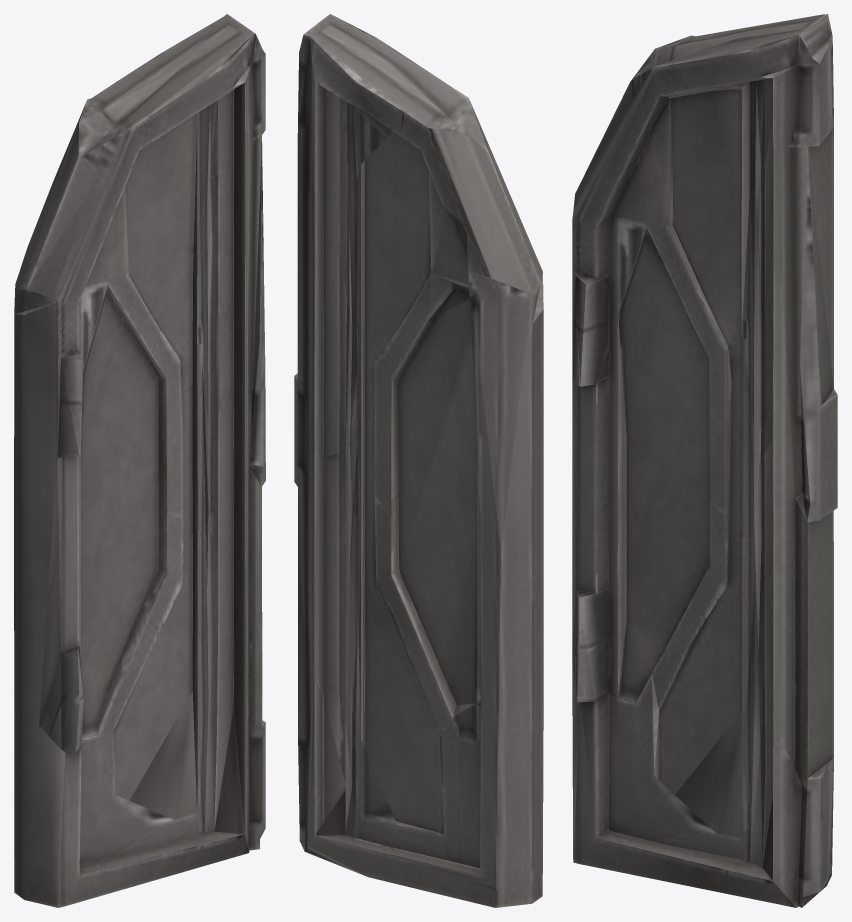
File: imperial_city_wall_tower__entrance_door_left_lod1.glb
3 renders of one model, left to right at view 1: azimuth 30°, elevation 25°; view 2: azimuth 150°, elevation 25°; view 3: azimuth 330°, elevation 25°, orthographic. The views are drawn at different scales.
Visible parts, largest first — view 1: mesh_node; view 2: mesh_node; view 3: mesh_node.
Part boxes in pixels (left/top/right/bottom): mesh_node: left=14, top=14, right=265, bottom=907; mesh_node: left=294, top=14, right=543, bottom=907; mesh_node: left=572, top=14, right=837, bottom=907.
Size of the model in its own units: 0.6706 by 2.22 by 0.2408.
Materials: 1 (1 with a texture image).
